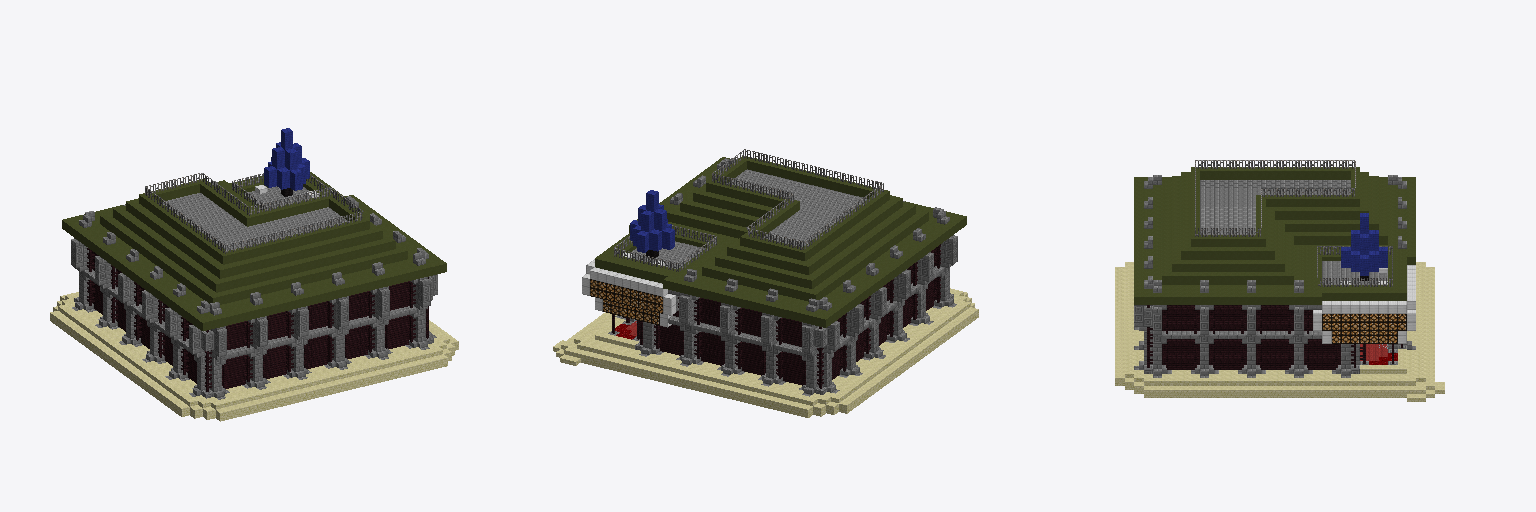
The picture shows the model from 3 angles: view 1: azimuth 30°, elevation 25°; view 2: azimuth 150°, elevation 25°; view 3: azimuth 270°, elevation 25°; orthographic projection.
Visible parts, largest first — view 1: world__-1897_22_687_to_-1863_40_722; view 2: world__-1897_22_687_to_-1863_40_722; view 3: world__-1897_22_687_to_-1863_40_722.
Boxes of the visible parts, x1=… form: world__-1897_22_687_to_-1863_40_722: x1=50, y1=128, x2=458, y2=421; world__-1897_22_687_to_-1863_40_722: x1=553, y1=149, x2=978, y2=417; world__-1897_22_687_to_-1863_40_722: x1=1115, y1=160, x2=1444, y2=401.
Size of the model in its own units: 35 by 18 by 35.
60 materials, 2 textured.